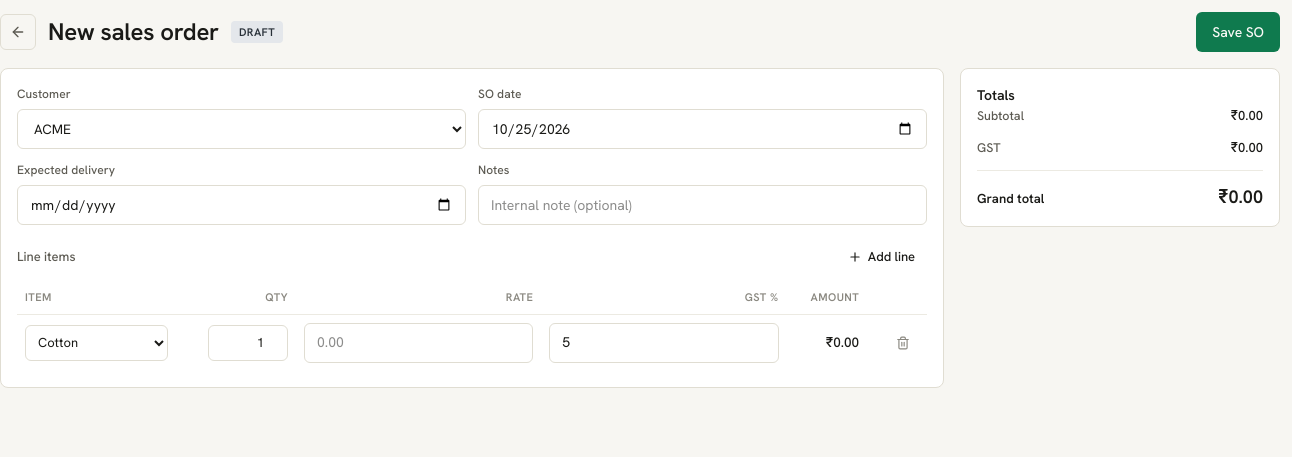
Test: SalesOrderCreate › blocks submit + surfaces an error when there is no active firm in the JWT
The width and height of the screenshot is (1292, 457).
Click the button "Save SO" at coordinates (1238, 32), box [1196,12,1280,52]
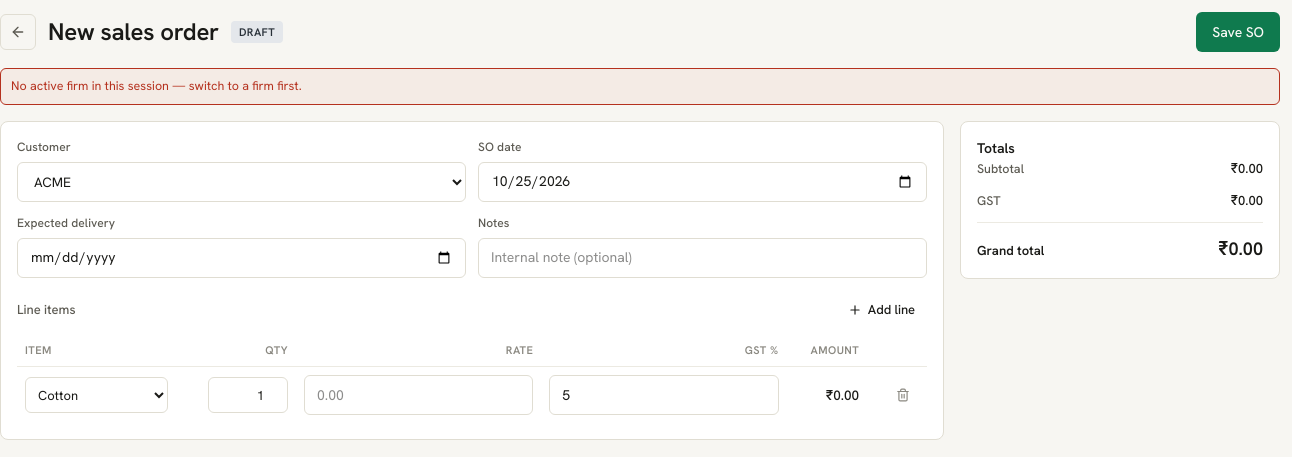
Expected: the message "No active firm in this session — switch to a firm first." is shown, [0,68,1280,105]
Expected: the message shows "No active firm", [11,77,302,94]
